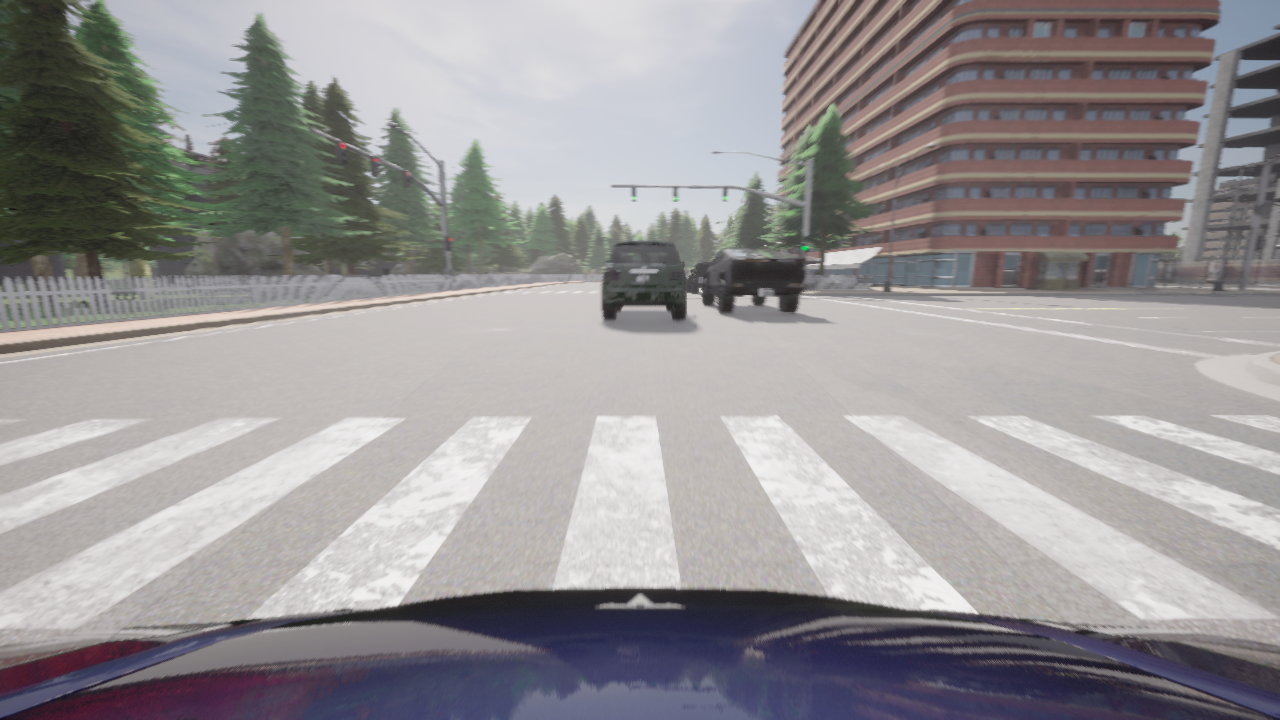cyclist: (0, 588, 1279, 719), (702, 249, 805, 313), (602, 241, 685, 320), (686, 263, 710, 293)
